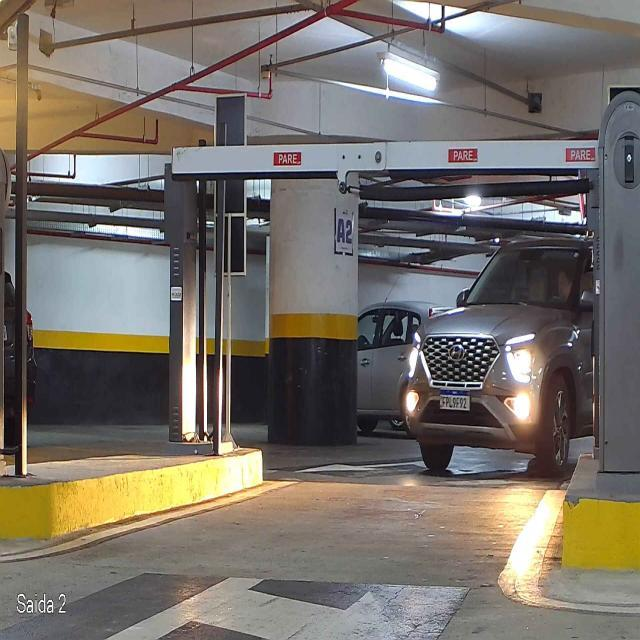mercosul_plate: (438, 386, 472, 412)
